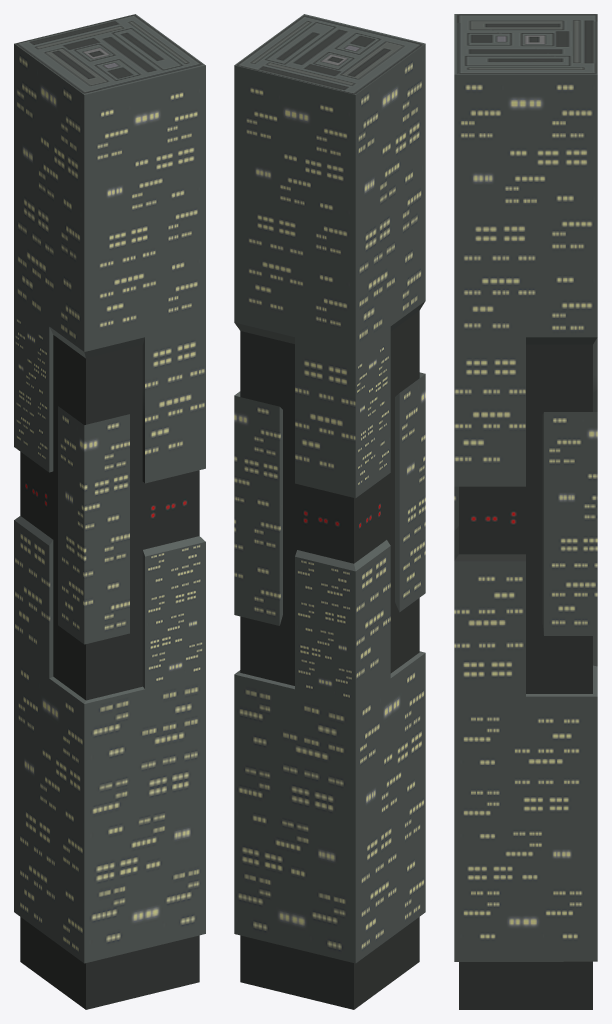
Rendered from tallBuilding.obj.
The picture shows the model from 3 angles, left to right: view 1: azimuth 30°, elevation 25°; view 2: azimuth 150°, elevation 25°; view 3: azimuth 270°, elevation 25°; orthographic projection. The views are drawn at different scales.
Parts seen in each view (by area): view 1: obj.tallBuilding.000_Cube.001; view 2: obj.tallBuilding.000_Cube.001; view 3: obj.tallBuilding.000_Cube.001.
Boxes of the visible parts, x1,y1,x2,y2 form: obj.tallBuilding.000_Cube.001: (14, 14, 205, 1009); obj.tallBuilding.000_Cube.001: (234, 14, 425, 1009); obj.tallBuilding.000_Cube.001: (454, 14, 597, 1009).
Size of the model in its own units: 14.22 by 103 by 14.22.
